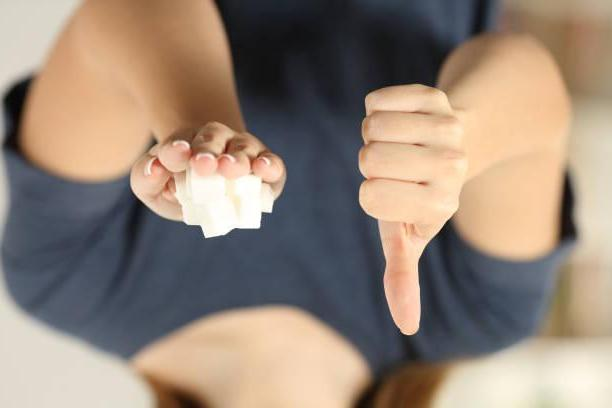thumbsdown: (356, 81, 470, 338)
